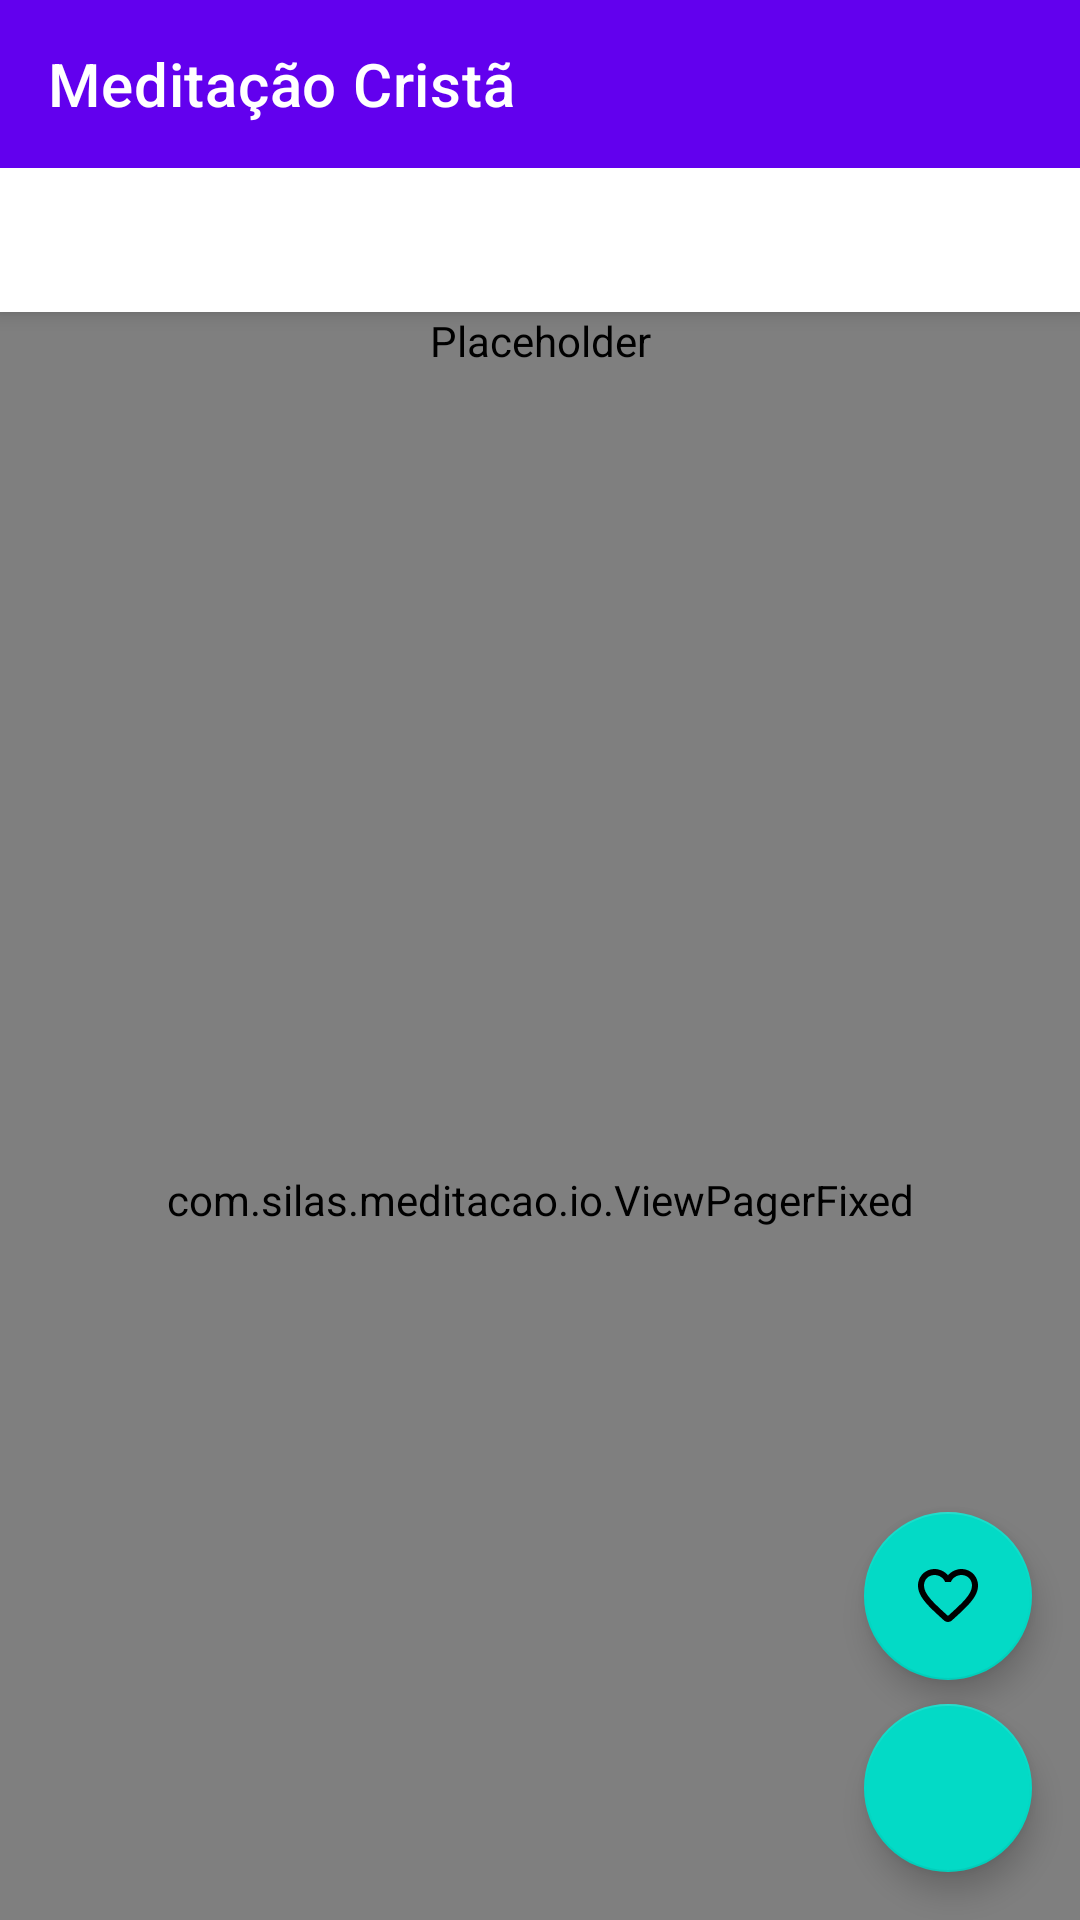

Icons on this 1080 x 1920 Android screen, each with the point to tap as point (x, y):
favorite border: point (948, 1596)
